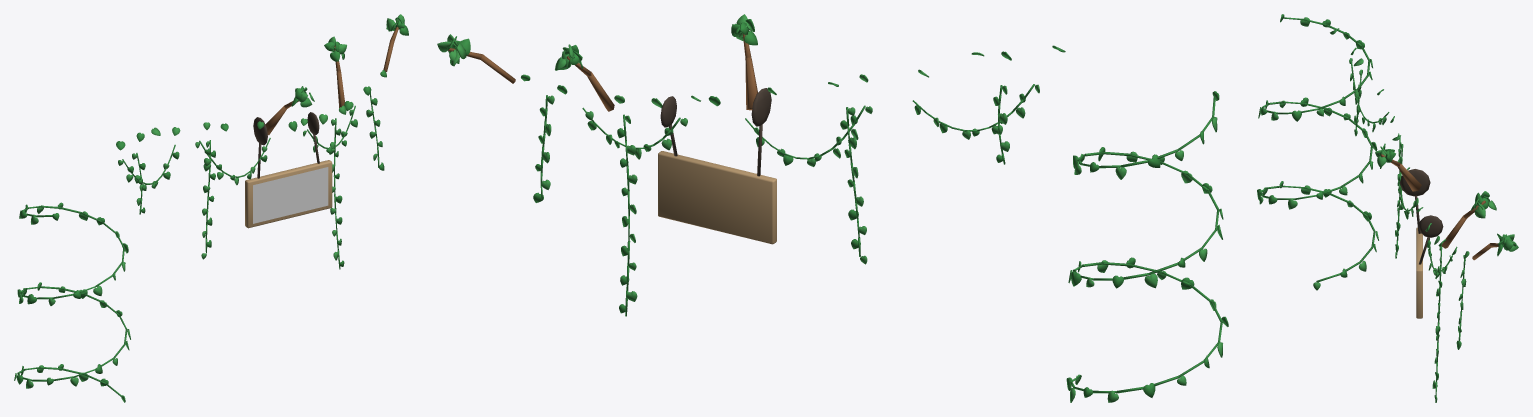
Rendered from sign_hanging.glb.
The picture shows the model from 3 angles, left to right: view 1: azimuth 30°, elevation 25°; view 2: azimuth 150°, elevation 25°; view 3: azimuth 270°, elevation 25°; orthographic projection. The views are drawn at different scales.
Visible parts, largest first — view 1: sign_hanging, sign_hanging_label; view 2: sign_hanging; view 3: sign_hanging.
Part boxes in pixels (bbox=[...]): sign_hanging: bbox=[14, 14, 408, 402]; sign_hanging_label: bbox=[253, 167, 328, 223]; sign_hanging: bbox=[437, 14, 1228, 402]; sign_hanging: bbox=[1257, 14, 1518, 402].
Size of the model in its own units: 5.03 by 2.56 by 2.3.
